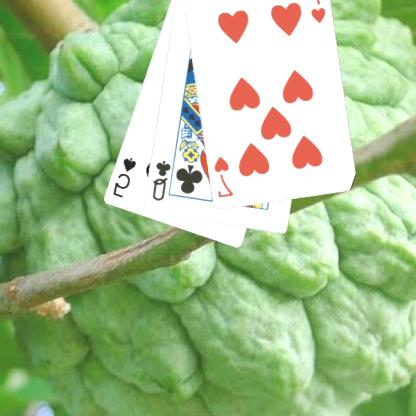5S: (111, 154, 139, 200)
7H: (212, 154, 236, 200), (305, 0, 329, 25)
QC: (151, 157, 173, 203)
